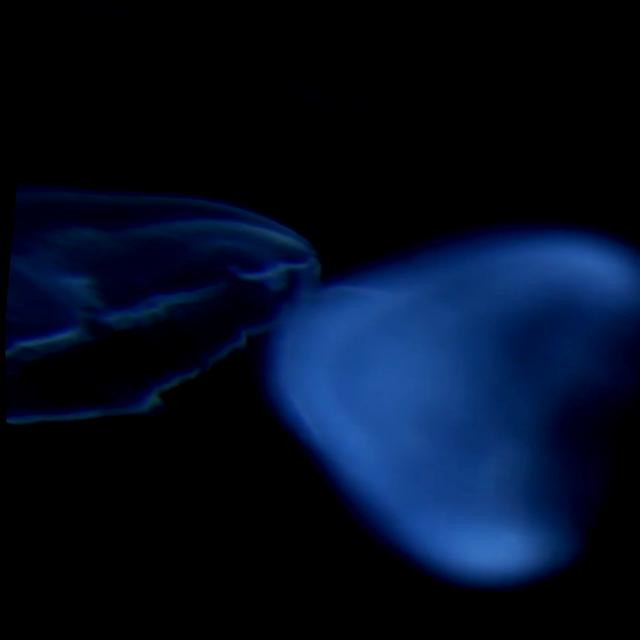Moon-jellyfish: (164, 206, 640, 610), (4, 177, 318, 426)
